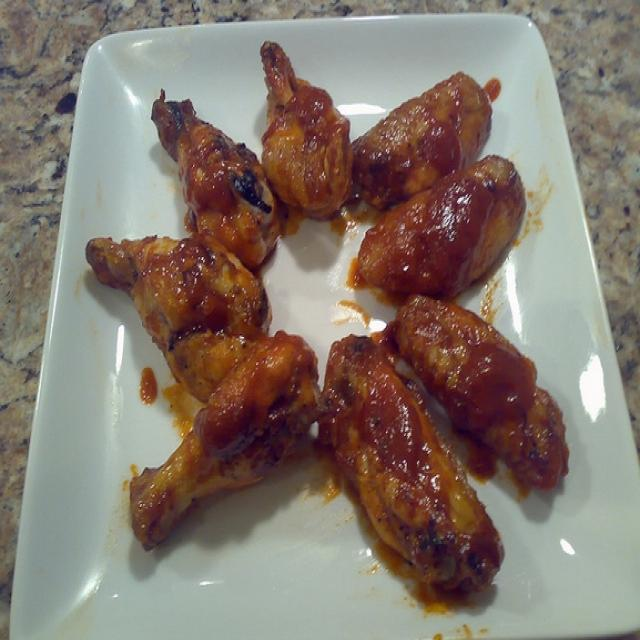Deep fried chicken wing: (87, 46, 581, 603)
